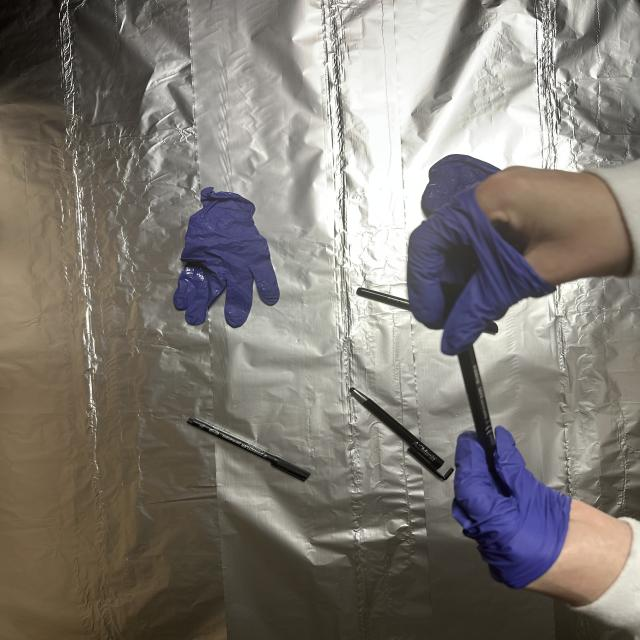glove_partial: (403, 160, 632, 354), (448, 424, 638, 605)
